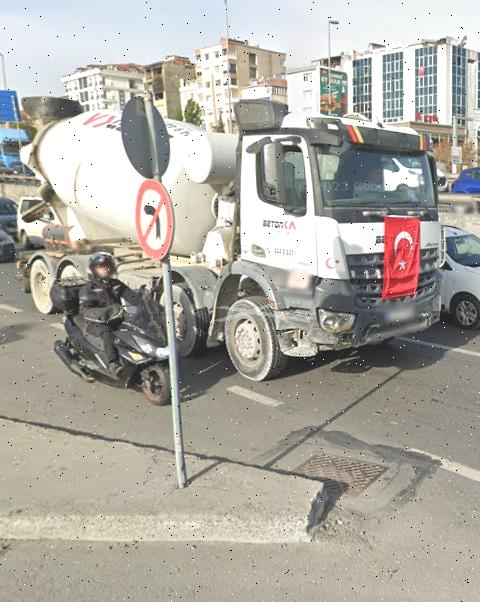leftturnsareforbidden: (130, 177, 183, 263)
